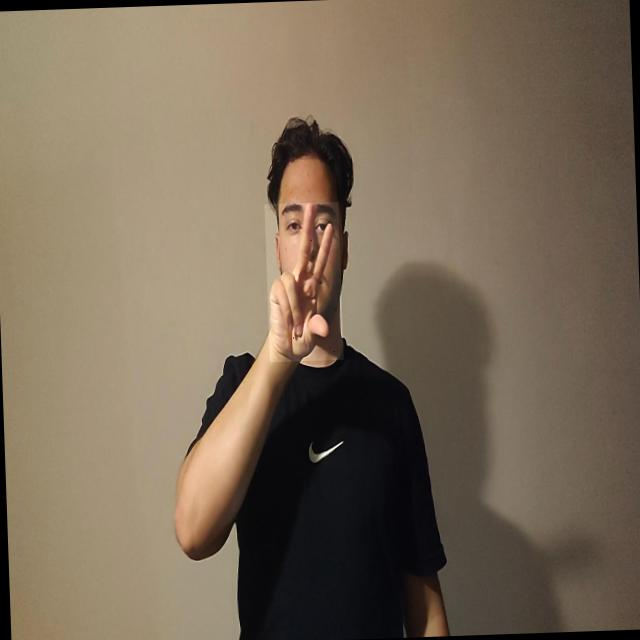no: (264, 201, 343, 362)
